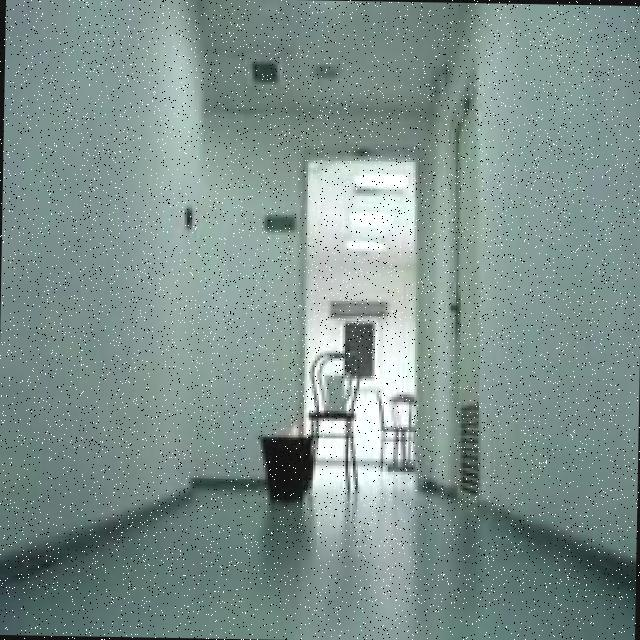Fire: (284, 416, 306, 438)
